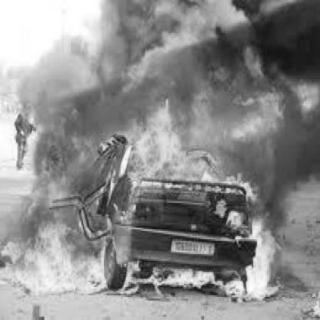Fire: (1, 0, 318, 314)
